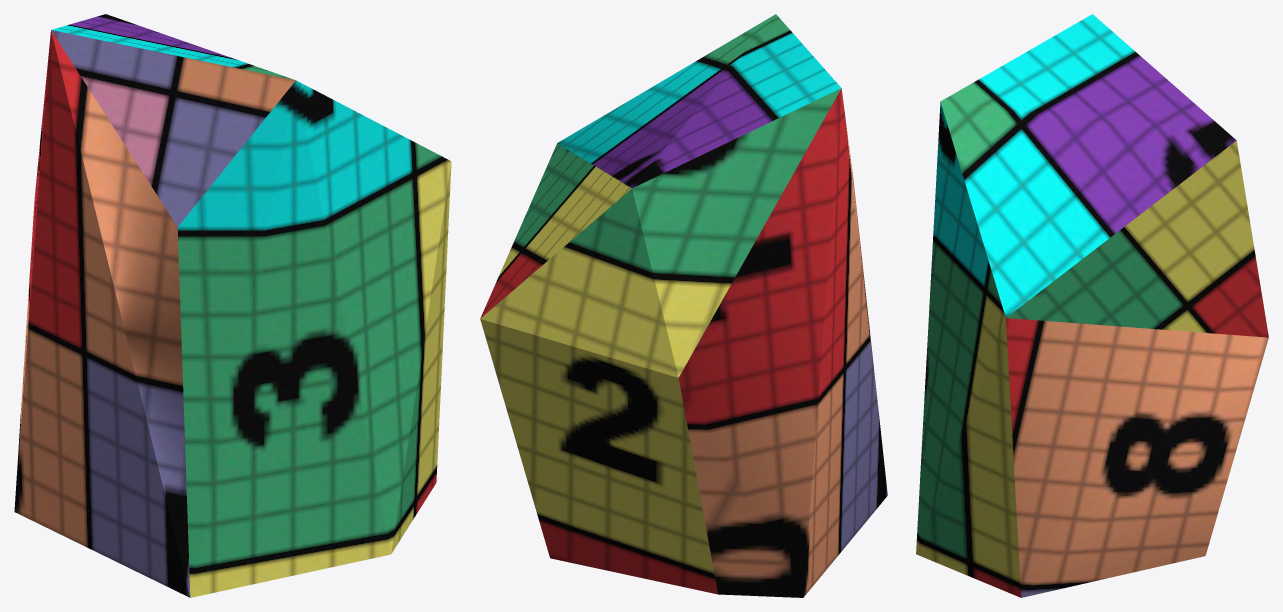
File: lprock7.FBX
3 views of the same model, side by side, from view 1: azimuth 30°, elevation 25°; view 2: azimuth 150°, elevation 25°; view 3: azimuth 270°, elevation 25° (orthographic). The views are drawn at different scales.
Visible parts, largest first — view 1: rock7; view 2: rock7; view 3: rock7.
Boxes of the visible parts, bbox=[...] form: rock7: bbox=[14, 14, 451, 597]; rock7: bbox=[480, 14, 887, 597]; rock7: bbox=[916, 14, 1268, 597].
Bounding box in the file's own units: 85.34 × 119 × 86.
Materials: 1 (1 with a texture image).
